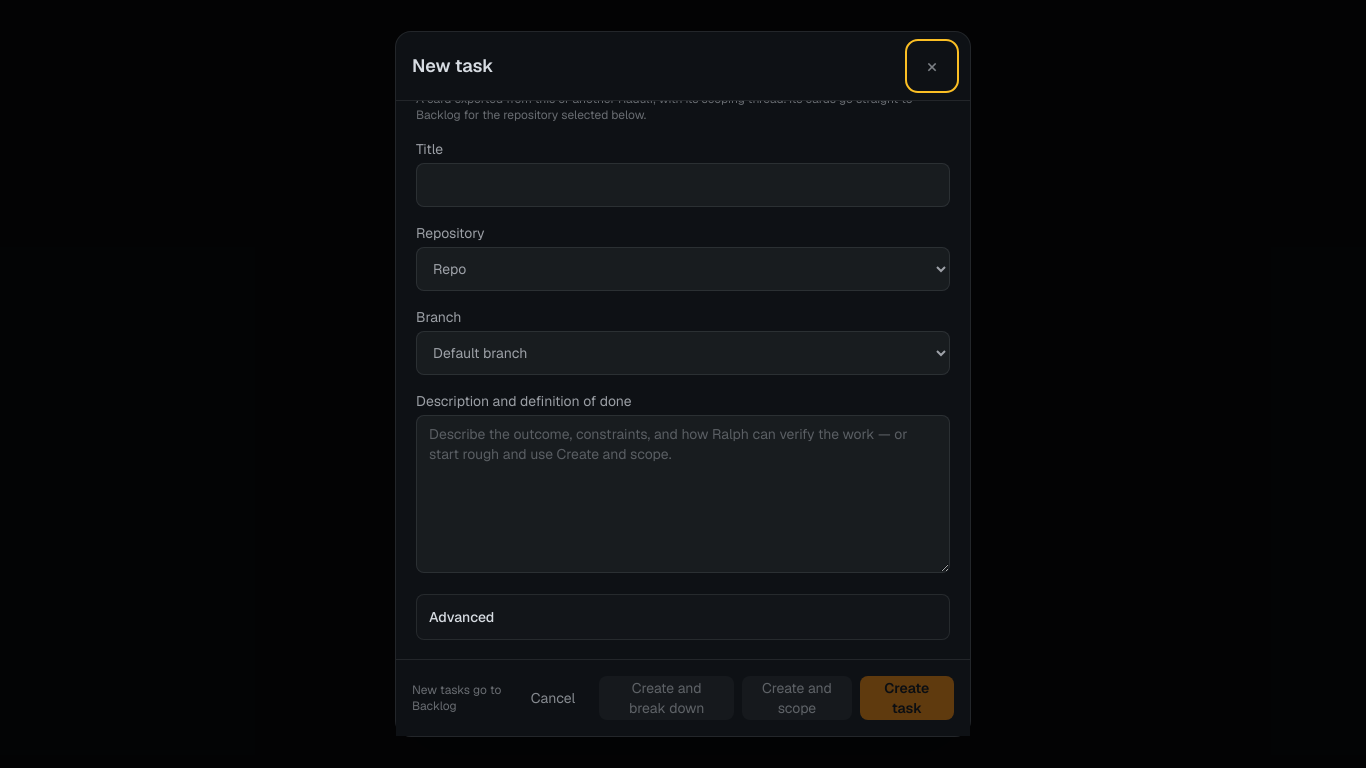
Scenario: NewTaskDialog › Open a pull request instead of merging › is enabled when gh is ready and the repo has an origin
(page scrolled)
Click the heading "Advanced".
click(462, 617)  # box [429,608,494,626]
(page scrolled)
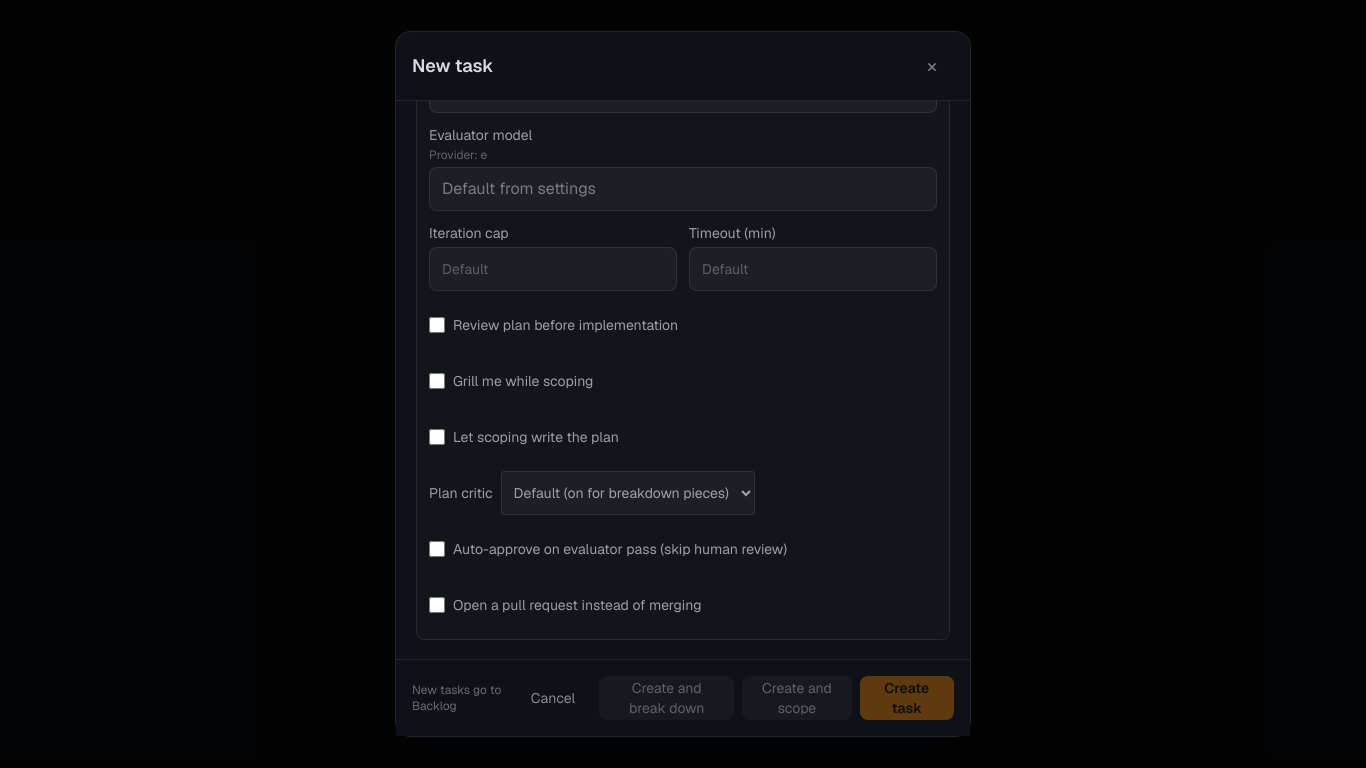
Check: the checkbox labelled "Open a pull request instead of merging" is enabled, box [429,597,445,613]
